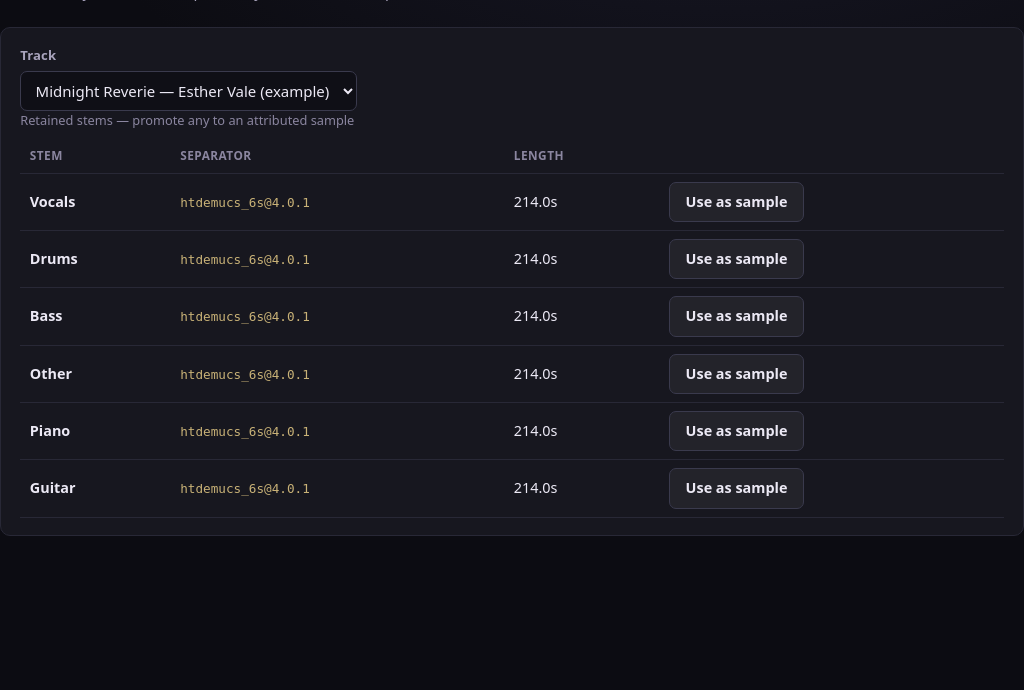
Test case: StemLibraryScreen (UI-03) › surfaces the attribution form with the gate and "attribution is not permission", then adds a sample
Expected: the column heading "Piano" is shown, [20, 403, 171, 460]
Note: Promote the first stem.
Click the button "Use as sample" in the row of "Vocals": (736, 202) [669, 182, 804, 222]
(page scrolled)
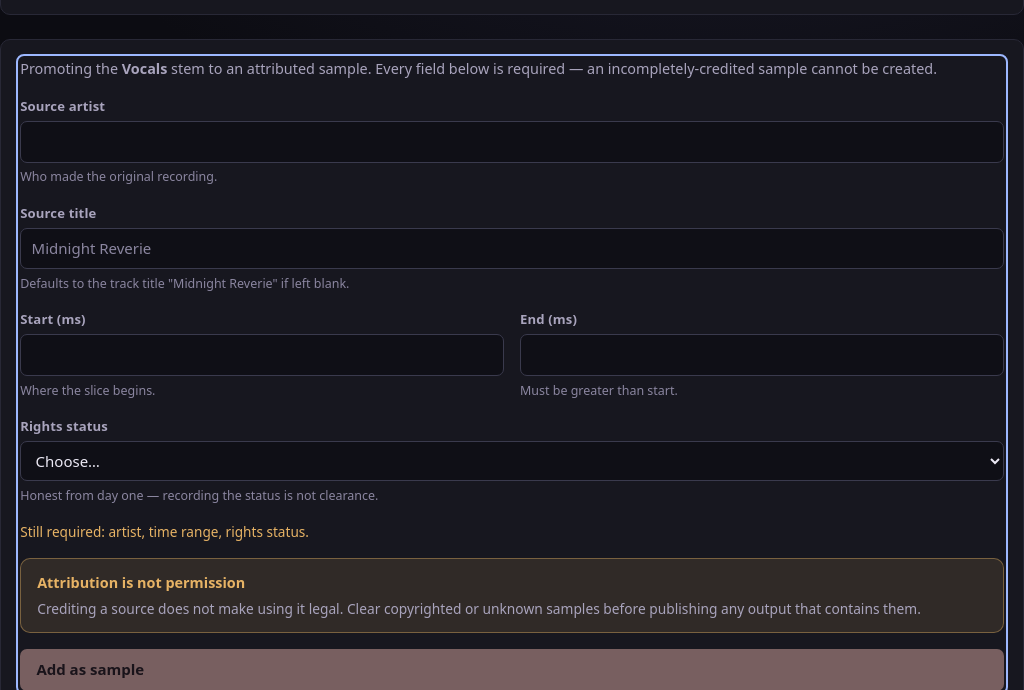
Expected: the button "Add as sample" is disabled, [20, 650, 1004, 689]
Expected: the text "Attribution is not permission" is shown, [37, 573, 245, 592]
Expected: the text "Still required: artist, time range, rights status." is shown, [20, 522, 309, 541]
Note: Complete the attribution (title falls back to the track title).
In the field labelled "Source artist": (512, 142) [20, 121, 1004, 163], type "Esther Vale"
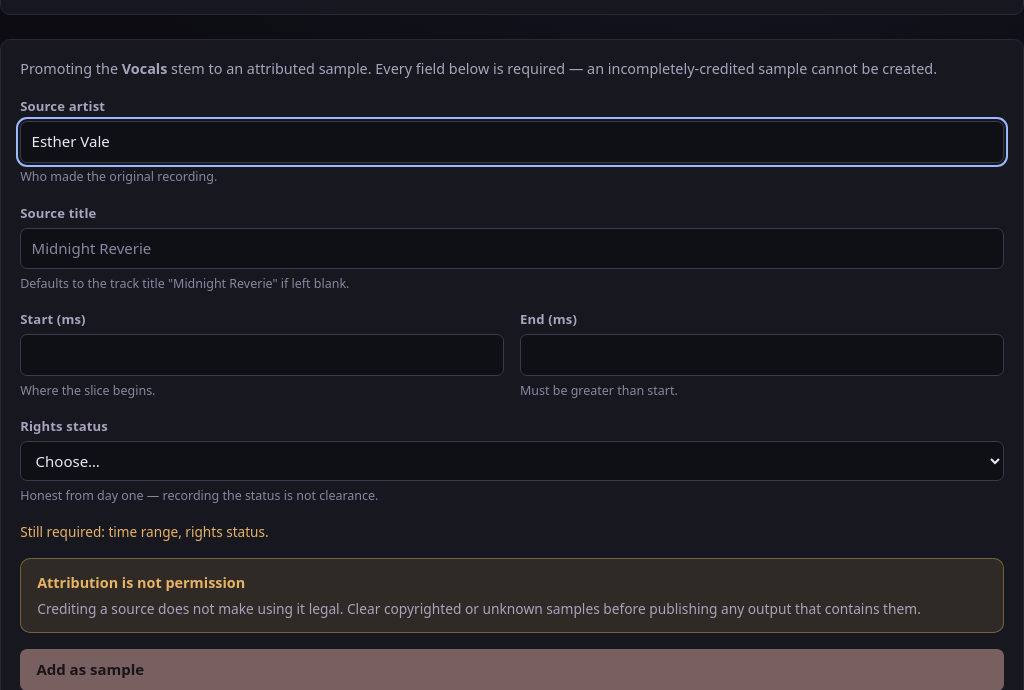
In the number field labelled "Start (ms)": (262, 355) [20, 334, 504, 376], type "1000"
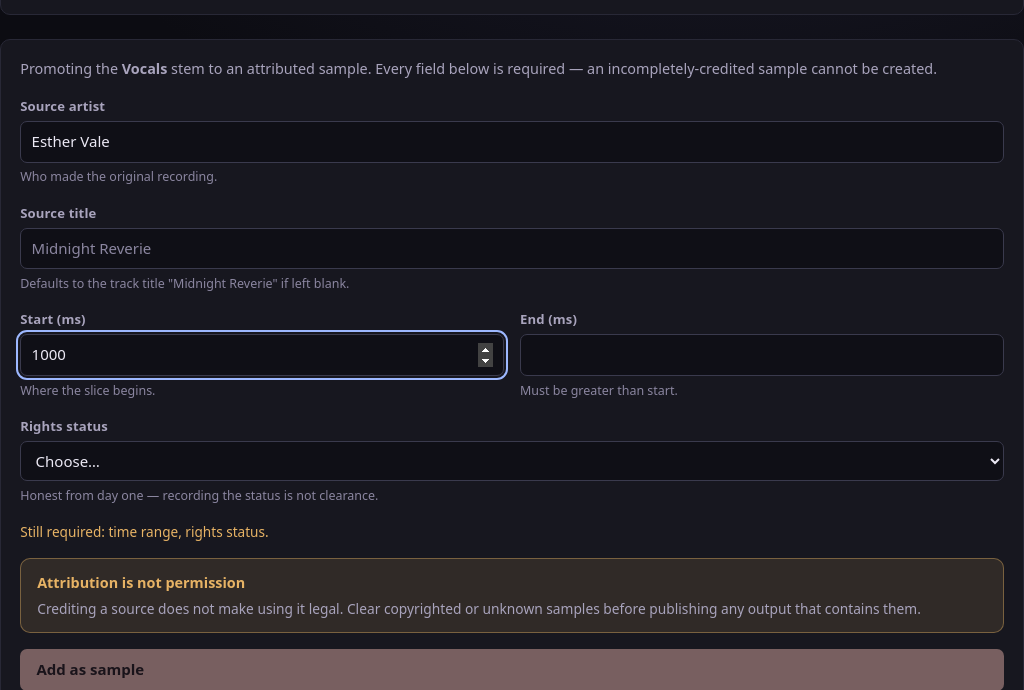
In the number field labelled "End (ms)": (762, 355) [520, 334, 1004, 376], type "5000"
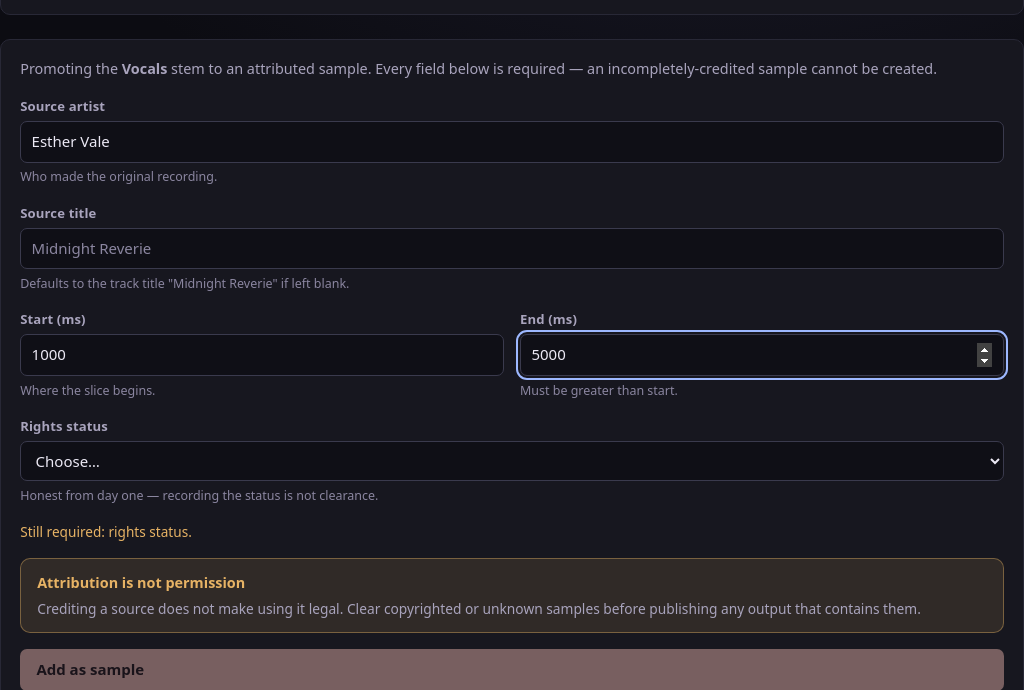
Select "Royalty-free" in the dropdown labelled "Rights status": (512, 461) [20, 441, 1004, 481]
(page scrolled)
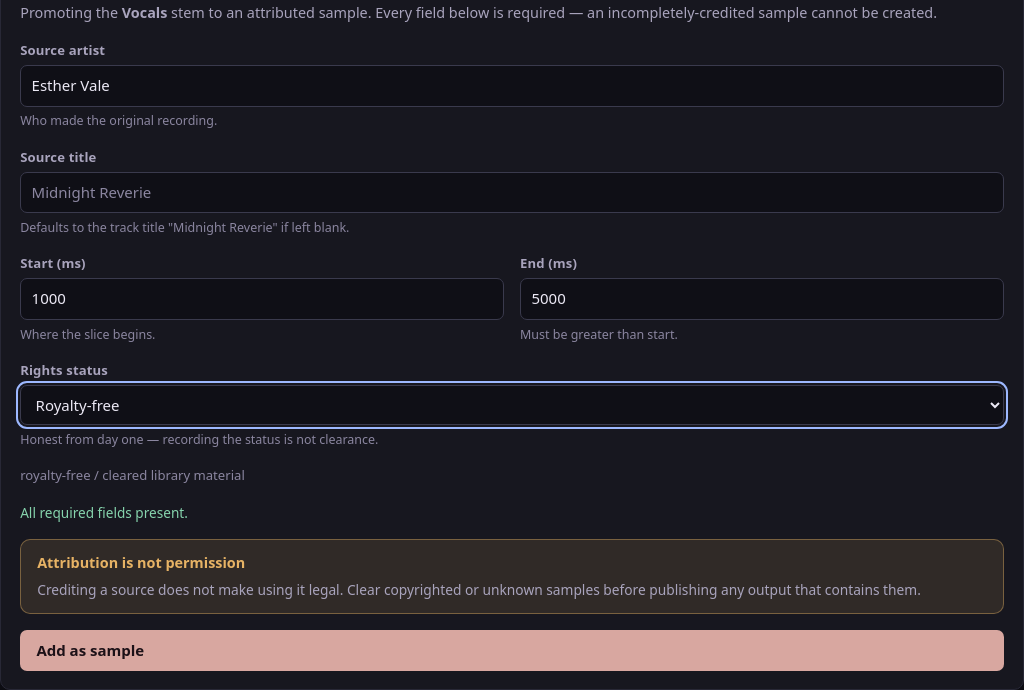
Expected: the button "Add as sample" is enabled
Click the button "Add as sample": (90, 650) [20, 630, 1004, 671]
(page scrolled)
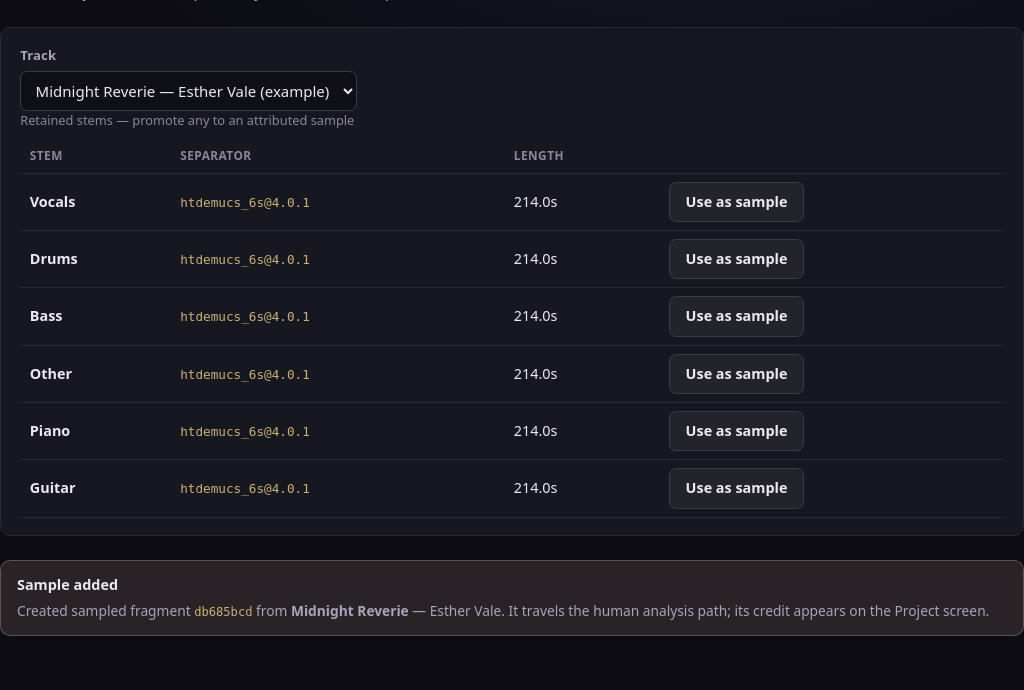
Expected: the text "Sample added" is shown, [17, 575, 118, 594]
